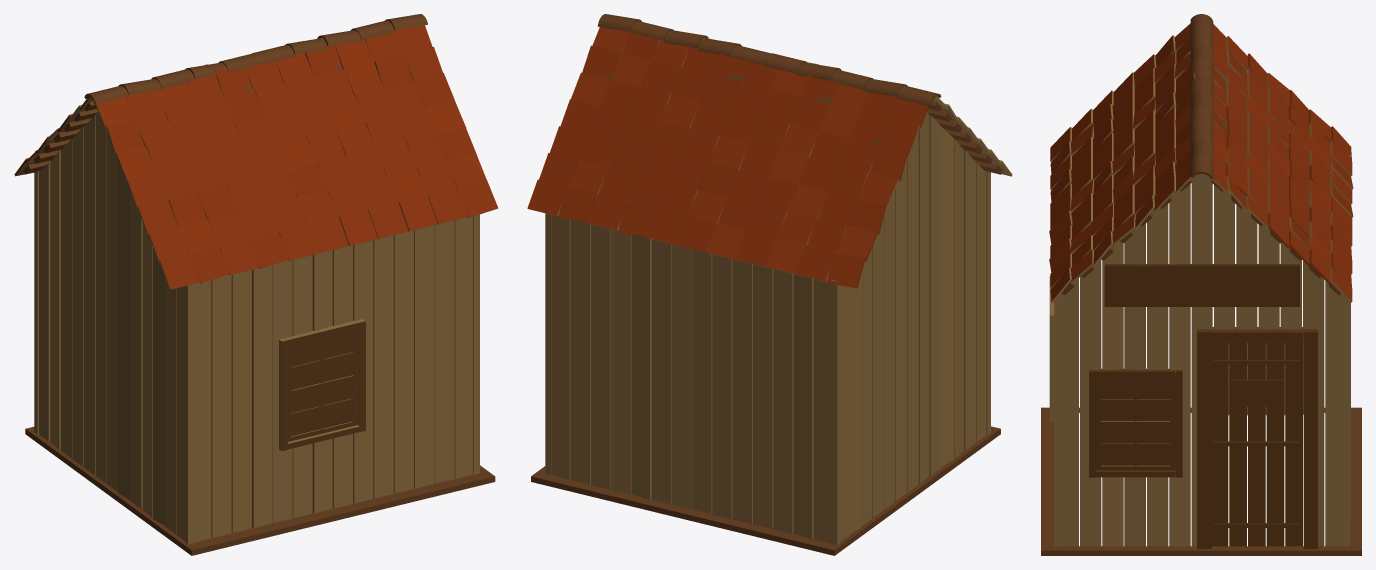
The model's file is Rumah.fbx.
3 renders of one model, left to right at view 1: azimuth 30°, elevation 25°; view 2: azimuth 150°, elevation 25°; view 3: azimuth 270°, elevation 25°, orthographic. The views are drawn at different scales.
Parts seen in each view (by area): view 1: Ship Shop-Freepoly.org; view 2: Ship Shop-Freepoly.org; view 3: Ship Shop-Freepoly.org.
Part boxes in pixels (x1=…): Ship Shop-Freepoly.org: x1=14, y1=14, x2=498, y2=555; Ship Shop-Freepoly.org: x1=527, y1=14, x2=1012, y2=555; Ship Shop-Freepoly.org: x1=1041, y1=14, x2=1361, y2=555.
Size of the model in its own units: 350 by 408 by 303.
